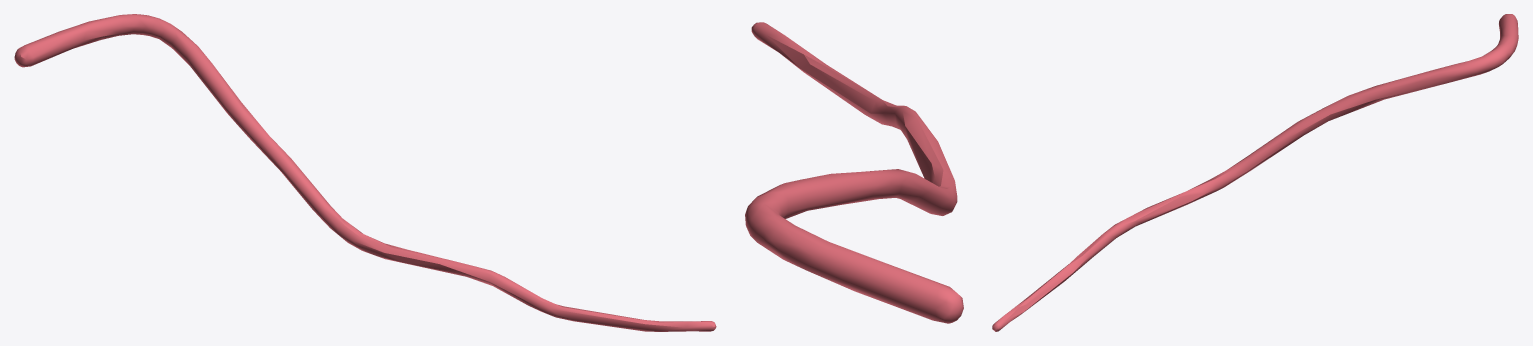
File: fma49481_fj5204.glb
3 views of the same model, side by side, from view 1: azimuth 30°, elevation 25°; view 2: azimuth 150°, elevation 25°; view 3: azimuth 270°, elevation 25° (orthographic). The views are drawn at different scales.
Visible parts, largest first — view 1: FMA49481_FJ5204; view 2: FMA49481_FJ5204; view 3: FMA49481_FJ5204.
Boxes of the visible parts, <box> form: FMA49481_FJ5204: <box>14,14,716,331</box>; FMA49481_FJ5204: <box>745,22,963,323</box>; FMA49481_FJ5204: <box>992,14,1518,331</box>.
Size of the model in its own units: 0.021 by 0.00881 by 0.0266.
